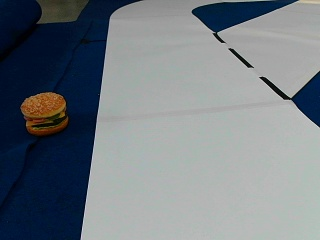burger: (19, 90, 70, 134)
